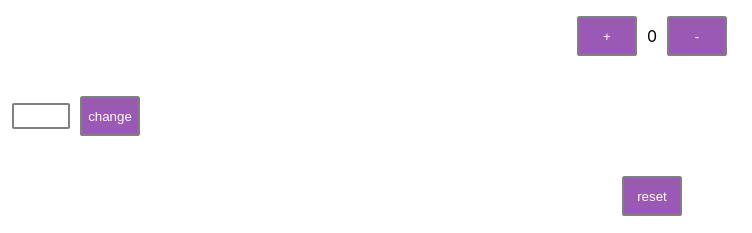
Test: Counter component › should change state if add number to input and click change button
Type "100" into the number field labelled "change" at (41, 116), box [12,103,70,129]
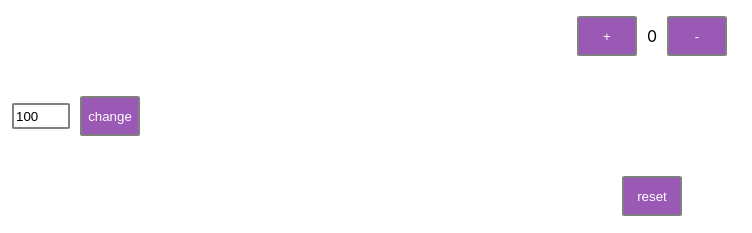
Click the button "change" at (110, 116), box [80,96,140,136]
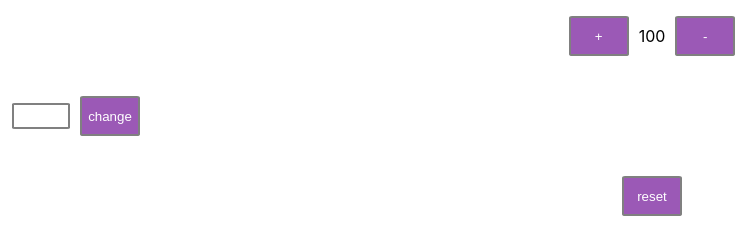
Check: the text with class "counterDisplay" reads "100", box [639,26,665,46]
